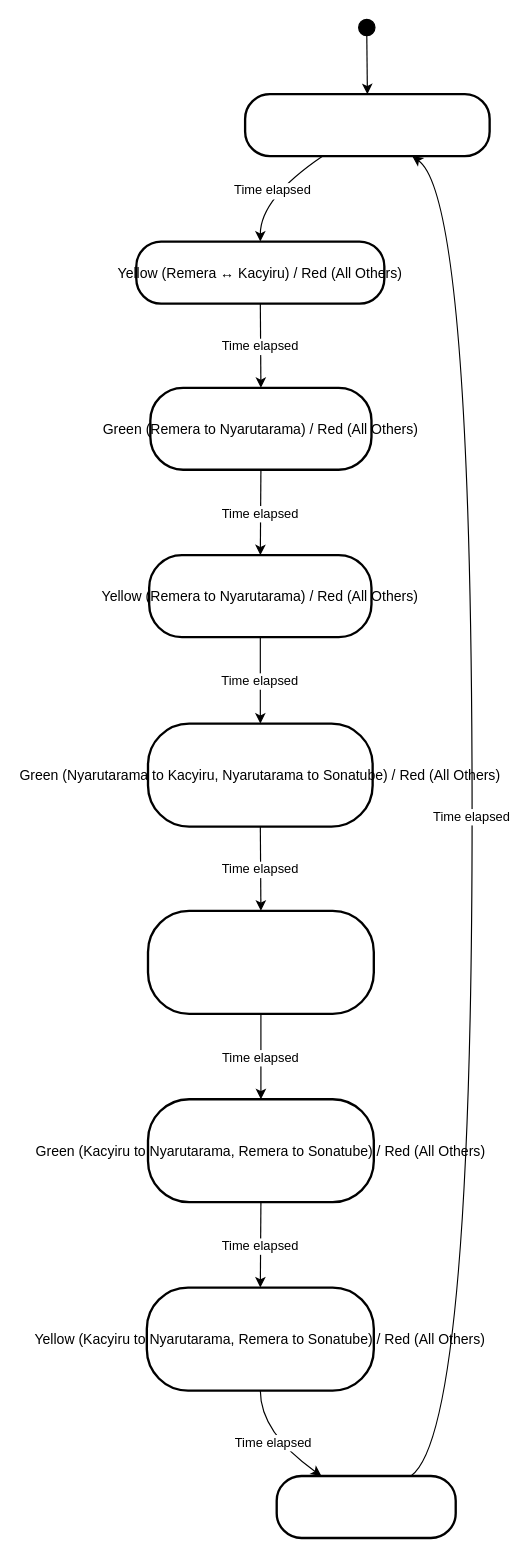
The diagram is 532 pixels wide and 1557 high, and some of its shapes have lost their labels. The shapes that lost their labels are listed below. From the top down, each one's box as (x1, y1, x2, y2) in pixels, then its label:
(243, 92, 490, 157): Green (Remera ↔ Kacyiru) / Red (All Others)
(146, 909, 374, 1014): Yellow (Nyarutarama to Kacyiru, Nyarutarama to Sonatube) / Red (All Others)
(275, 1474, 456, 1539): All Red (Pedestrian Crossing)
